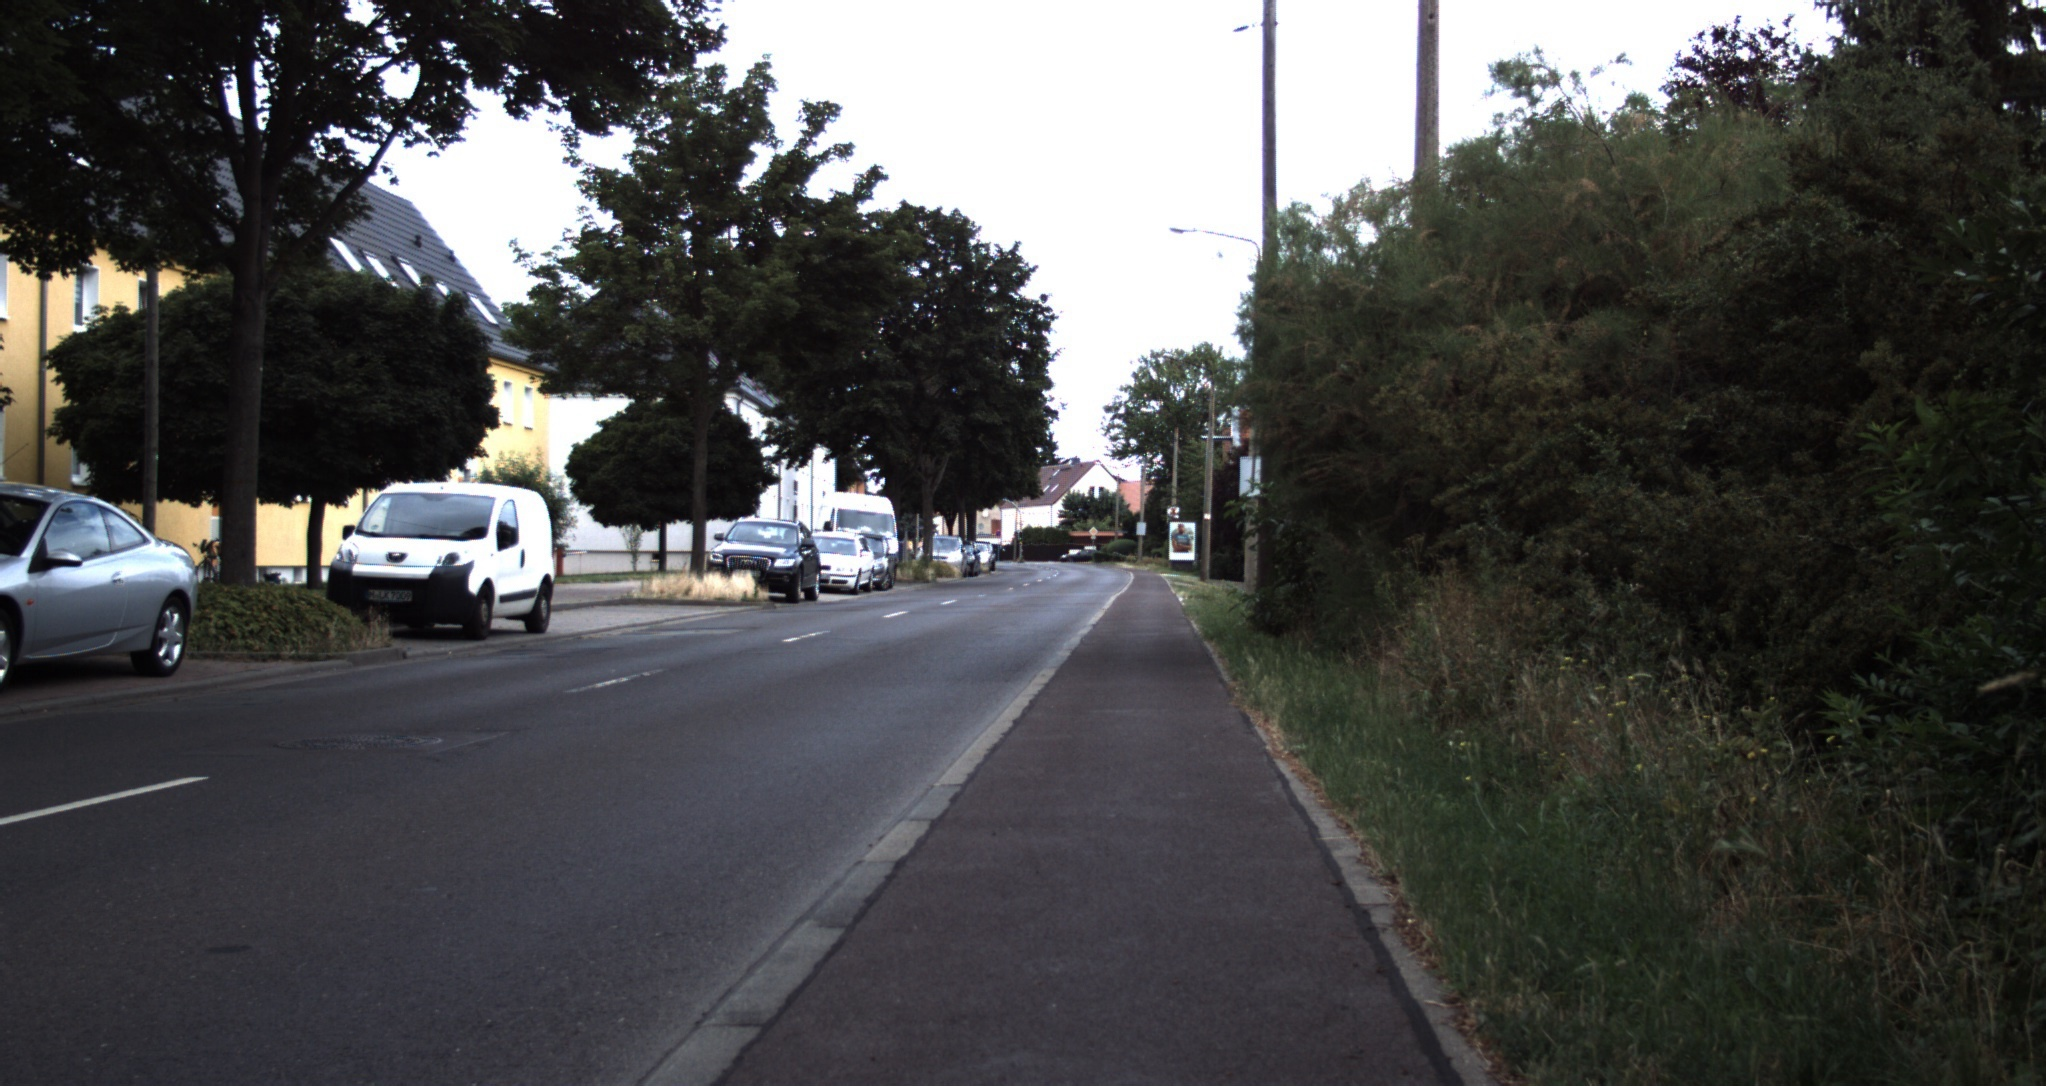30: (321, 472, 553, 636), (820, 491, 903, 591)
car: (0, 477, 200, 678), (713, 519, 825, 600), (802, 530, 877, 590), (923, 537, 968, 577)
